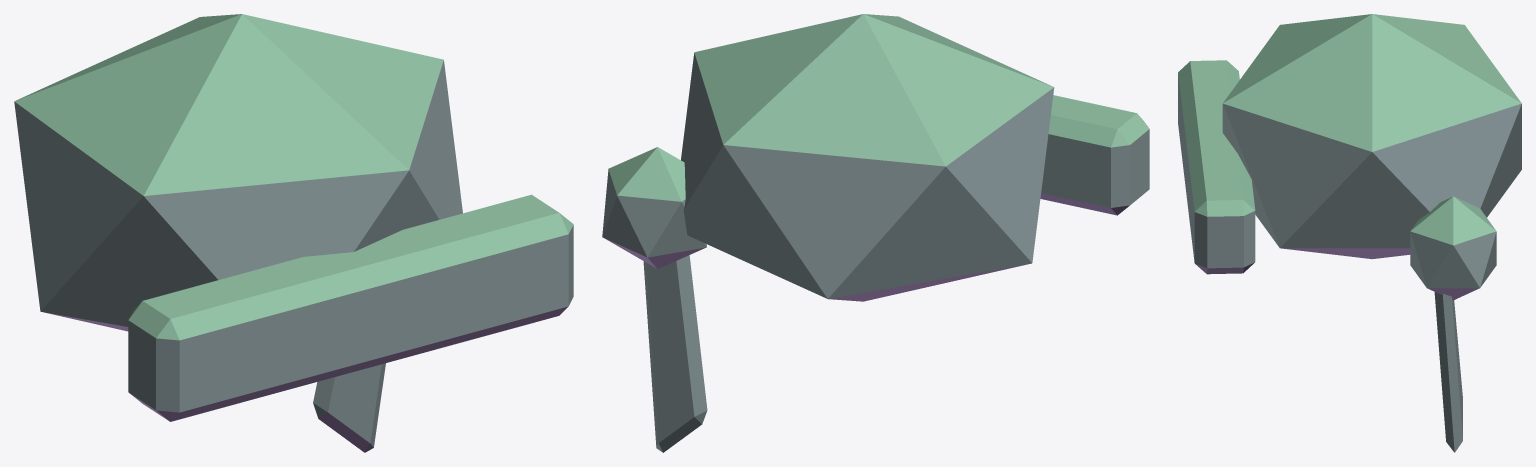
The model's file is npc_module_headwrap_v01.glb.
The picture shows the model from 3 angles, left to right: view 1: azimuth 30°, elevation 25°; view 2: azimuth 150°, elevation 25°; view 3: azimuth 270°, elevation 25°; orthographic projection. The views are drawn at different scales.
Visible parts, largest first — view 1: GEO_npc_module_headwrap_v01; view 2: GEO_npc_module_headwrap_v01; view 3: GEO_npc_module_headwrap_v01.
Boxes of the visible parts, bbox=[...] form: GEO_npc_module_headwrap_v01: bbox=[14, 14, 573, 452]; GEO_npc_module_headwrap_v01: bbox=[602, 14, 1149, 452]; GEO_npc_module_headwrap_v01: bbox=[1178, 14, 1521, 452].
Size of the model in its own units: 1.13 by 1.22 by 1.02.
